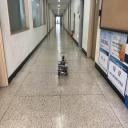cart: (58, 61, 68, 76)
